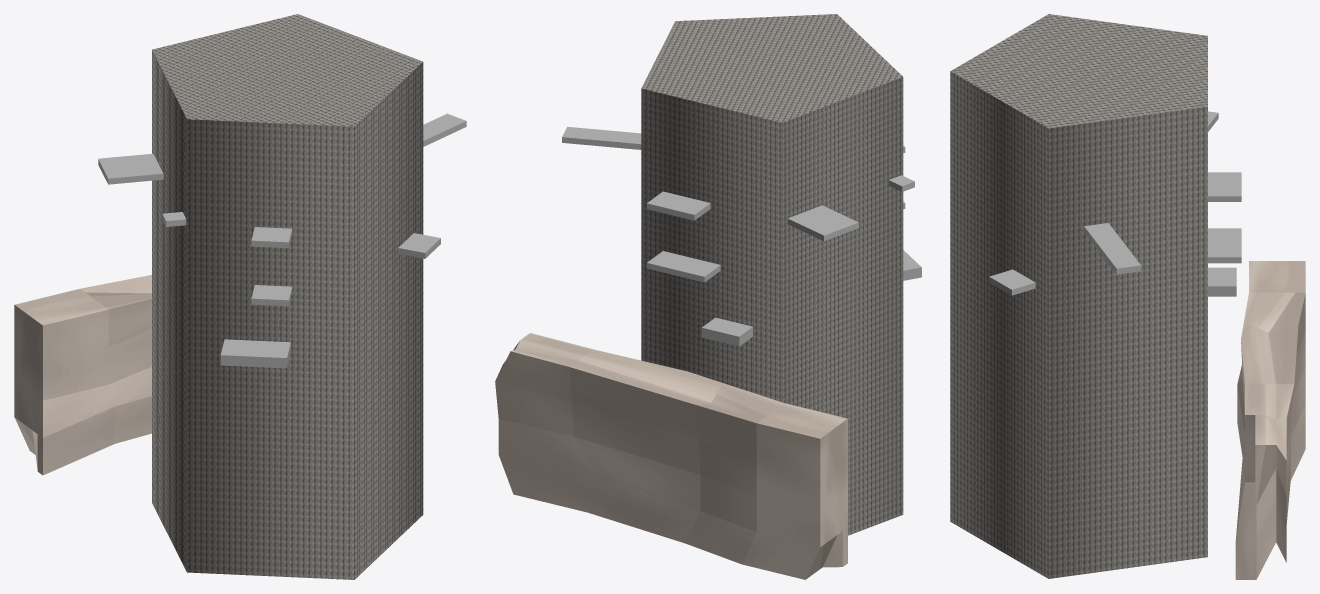
Rendered from LevelStructure2.fbx.
3 views of the same model, side by side, from view 1: azimuth 30°, elevation 25°; view 2: azimuth 150°, elevation 25°; view 3: azimuth 270°, elevation 25° (orthographic). The views are drawn at different scales.
Parts seen in each view (by area): view 1: Cylinder, level3rockkkk, Cube__2_, Cube__11_, Cube__18_, Cube__4_, Cube__8_, Cube__5_; view 2: Cylinder, level3rockkkk, Cube__11_, Cube__7_, Cube__18_, Cube__10_, Cube__3_; view 3: Cylinder, level3rockkkk, Cube__18_, Cube__7_, Cube__10_, Cube__3_, Cube__5_.
Boxes of the visible parts, <box> form: Cylinder: <box>152,14,423,579</box>; level3rockkkk: <box>14,274,151,475</box>; Cube__2_: <box>220,339,290,368</box>; Cube__11_: <box>98,153,163,184</box>; Cube__18_: <box>423,113,466,146</box>; Cube__4_: <box>251,285,292,306</box>; Cube__8_: <box>251,227,292,248</box>; Cube__5_: <box>398,233,440,258</box>; Cylinder: <box>641,14,903,535</box>; level3rockkkk: <box>495,333,847,579</box>; Cube__11_: <box>787,205,858,241</box>; Cube__7_: <box>646,251,720,282</box>; Cube__18_: <box>562,126,641,149</box>; Cube__10_: <box>646,191,710,220</box>; Cube__3_: <box>701,317,752,346</box>; Cylinder: <box>950,14,1207,578</box>; level3rockkkk: <box>1235,261,1305,579</box>; Cube__18_: <box>1084,223,1141,274</box>; Cube__7_: <box>1208,228,1241,263</box>; Cube__10_: <box>1208,172,1241,201</box>; Cube__3_: <box>1208,267,1236,296</box>; Cube__5_: <box>989,269,1035,295</box>.
Bounding box in the file's own units: 7187 × 8720 × 6235.
3 materials, 2 textured.
